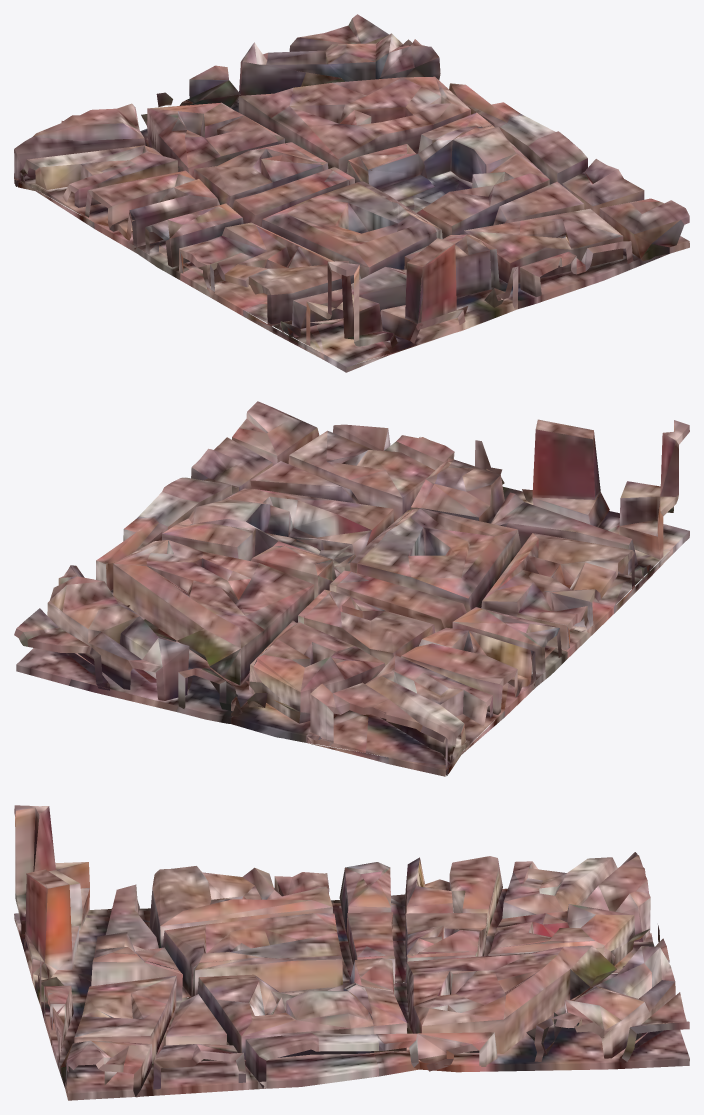
3 views of the same model, one above another, from view 1: azimuth 30°, elevation 25°; view 2: azimuth 150°, elevation 25°; view 3: azimuth 270°, elevation 25° (orthographic). The views are drawn at different scales.
Visible parts, largest first — view 1: Mesh_0; view 2: Mesh_0; view 3: Mesh_0.
Part boxes in pixels (box(x1,y1,x2,y2)): Mesh_0: box(14, 14, 689, 372); Mesh_0: box(14, 401, 689, 776); Mesh_0: box(14, 805, 689, 1100).
Bounding box in the file's own units: 266 × 64.42 × 330.
1 material, 1 textured.
